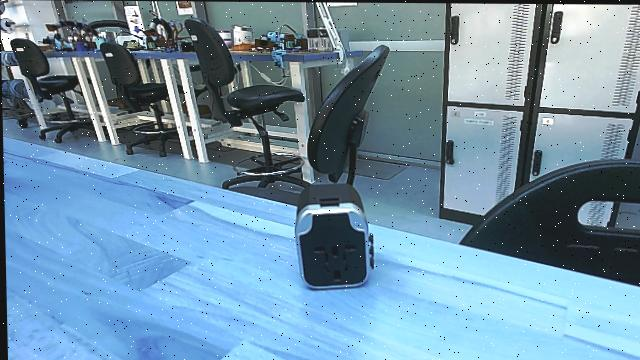adapter: (285, 179, 378, 295)
